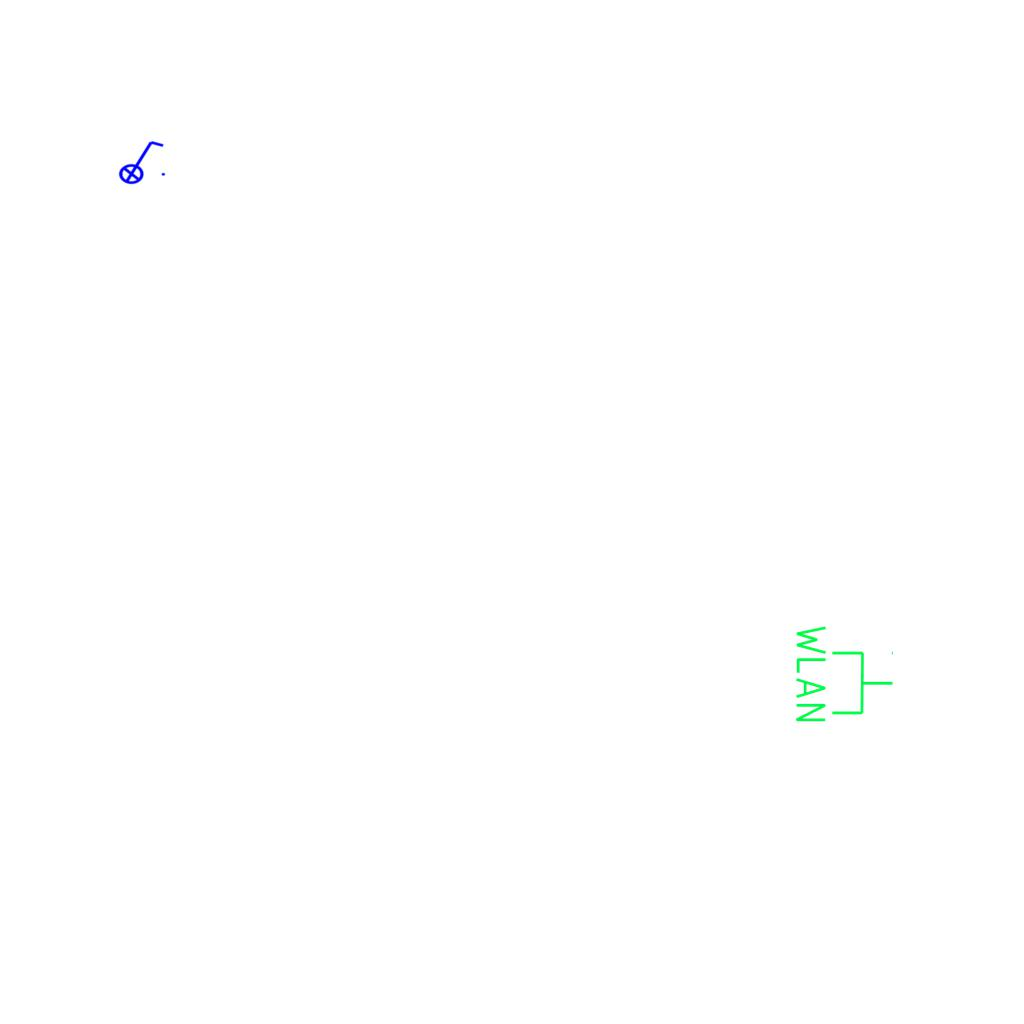Ausschalter_beleuchtet: (112, 137, 168, 185)
WLAN: (792, 621, 896, 726)
